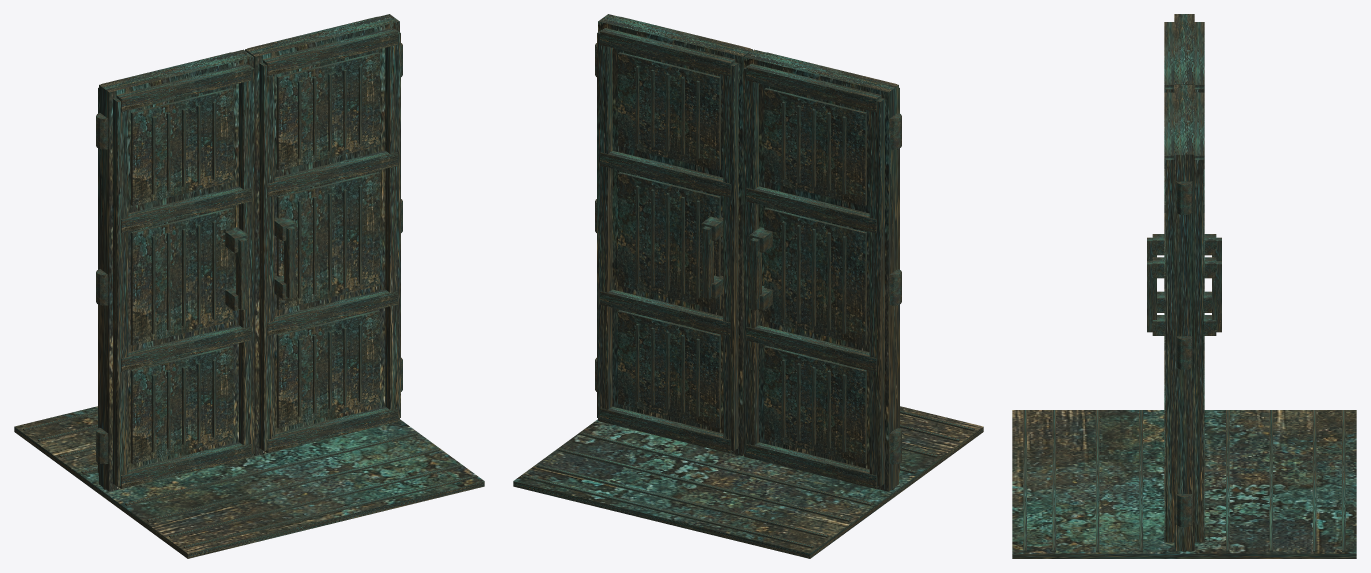
File: bronze-door.glb
The picture shows the model from 3 angles, left to right: view 1: azimuth 30°, elevation 25°; view 2: azimuth 150°, elevation 25°; view 3: azimuth 270°, elevation 25°; orthographic projection.
Visible parts, largest first — view 1: Raised_threshold, Left_solid_leaf, Left_recess.004, Right_solid_leaf, Right_recess.004, Right_recess.005, Right_recess.003, Left_recess.003, Left_recess.005, Right_stile.002, Left_stile.003, Right_stile.003 (+15 smaller); view 2: Raised_threshold, Left_solid_leaf, Left_recess.001, Right_solid_leaf, Right_recess.001, Right_recess.002, Right_recess, Left_recess, Left_recess.002, Right_stile, Left_stile.001, Right_stile.001 (+15 smaller); view 3: Raised_threshold, Right_solid_leaf, Right_stile.001, Right_stile.003, Left_solid_leaf, Right_rail.003, Right_rail.007, Left_rail.003, Left_rail.007, Right_pull_handle, Right_pull_handle.001, Threshold_tread (+10 smaller).
Part boxes in pixels (x1,y1,x2,y2): Raised_threshold: [14, 406, 484, 558]; Left_solid_leaf: [99, 49, 253, 491]; Left_recess.004: [131, 207, 233, 345]; Right_solid_leaf: [245, 14, 399, 455]; Right_recess.004: [277, 172, 379, 309]; Right_recess.005: [277, 52, 379, 170]; Right_recess.003: [277, 310, 379, 428]; Left_recess.003: [131, 346, 233, 463]; Left_recess.005: [131, 88, 233, 205]; Right_stile.002: [259, 62, 274, 451]; Left_stile.003: [113, 98, 128, 486]; Right_stile.003: [385, 30, 400, 418]; Raised_threshold: [513, 406, 983, 558]; Left_solid_leaf: [744, 49, 898, 491]; Left_recess.001: [764, 207, 866, 345]; Right_solid_leaf: [598, 14, 752, 455]; Right_recess.001: [618, 172, 720, 309]; Right_recess.002: [618, 52, 720, 170]; Right_recess: [618, 310, 720, 428]; Left_recess: [764, 346, 866, 463]; Left_recess.002: [764, 88, 866, 205]; Right_stile: [723, 62, 738, 451]; Left_stile.001: [869, 98, 884, 486]; Right_stile.001: [597, 30, 612, 418]; Raised_threshold: [1012, 410, 1356, 558]; Right_solid_leaf: [1174, 84, 1194, 550]; Right_stile.001: [1194, 158, 1203, 541]; Right_stile.003: [1165, 158, 1174, 541]; Left_solid_leaf: [1174, 14, 1194, 84]; Right_rail.003: [1194, 92, 1204, 168]; Right_rail.007: [1164, 92, 1174, 168]; Left_rail.003: [1194, 22, 1204, 92]; Left_rail.007: [1164, 22, 1174, 92]; Right_pull_handle: [1212, 261, 1221, 332]; Right_pull_handle.001: [1147, 261, 1156, 332]; Threshold_tread: [1342, 410, 1345, 552].
Bounding box in the file's own units: 2.41 × 3.07 × 2.38.
3 materials, 3 textured.
